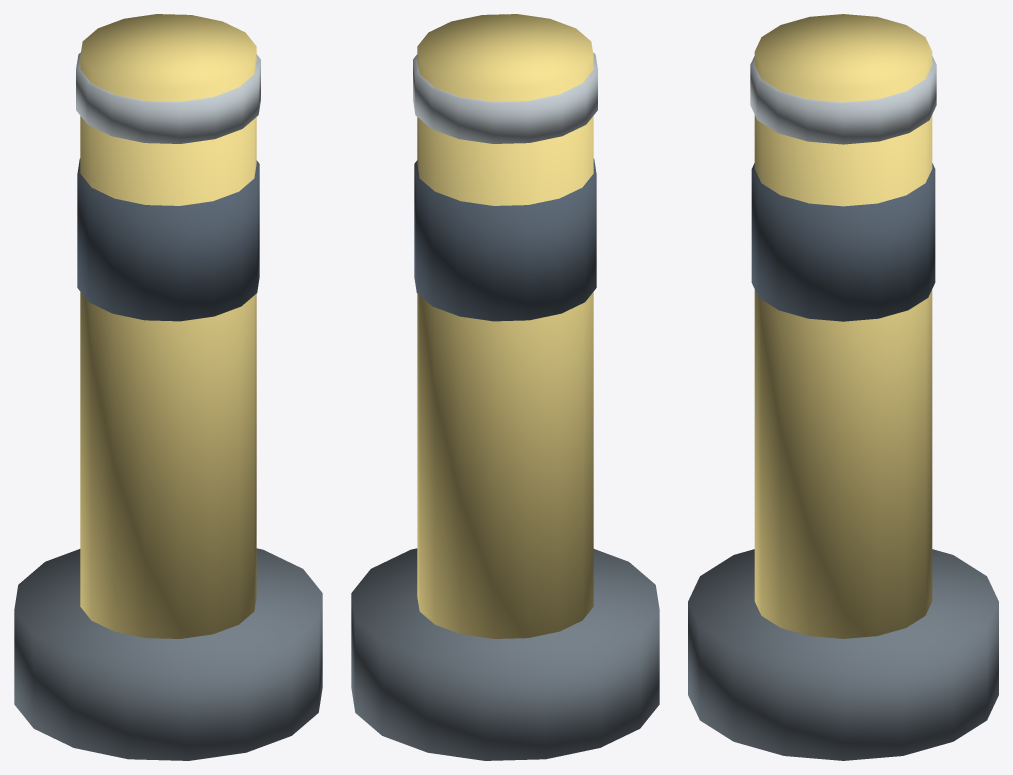
File: bollard_standard.glb
3 renders of one model, left to right at view 1: azimuth 30°, elevation 25°; view 2: azimuth 150°, elevation 25°; view 3: azimuth 270°, elevation 25°, orthographic.
Visible parts, largest first — view 1: Body_yellow, Base_dark, Stripe_black, Cap_steel; view 2: Body_yellow, Base_dark, Stripe_black, Cap_steel; view 3: Body_yellow, Base_dark, Stripe_black, Cap_steel.
Part boxes in pixels (x1,y1,x2,y2): Body_yellow: [80, 14, 256, 638]; Base_dark: [14, 548, 322, 760]; Stripe_black: [77, 158, 259, 321]; Cap_steel: [76, 52, 260, 143]; Body_yellow: [417, 14, 593, 638]; Base_dark: [351, 548, 659, 760]; Stripe_black: [414, 158, 596, 321]; Cap_steel: [413, 52, 597, 143]; Body_yellow: [754, 14, 932, 638]; Base_dark: [688, 549, 998, 760]; Stripe_black: [751, 163, 935, 321]; Cap_steel: [750, 56, 936, 144].
Size of the model in its own units: 0.42 by 0.96 by 0.42.
